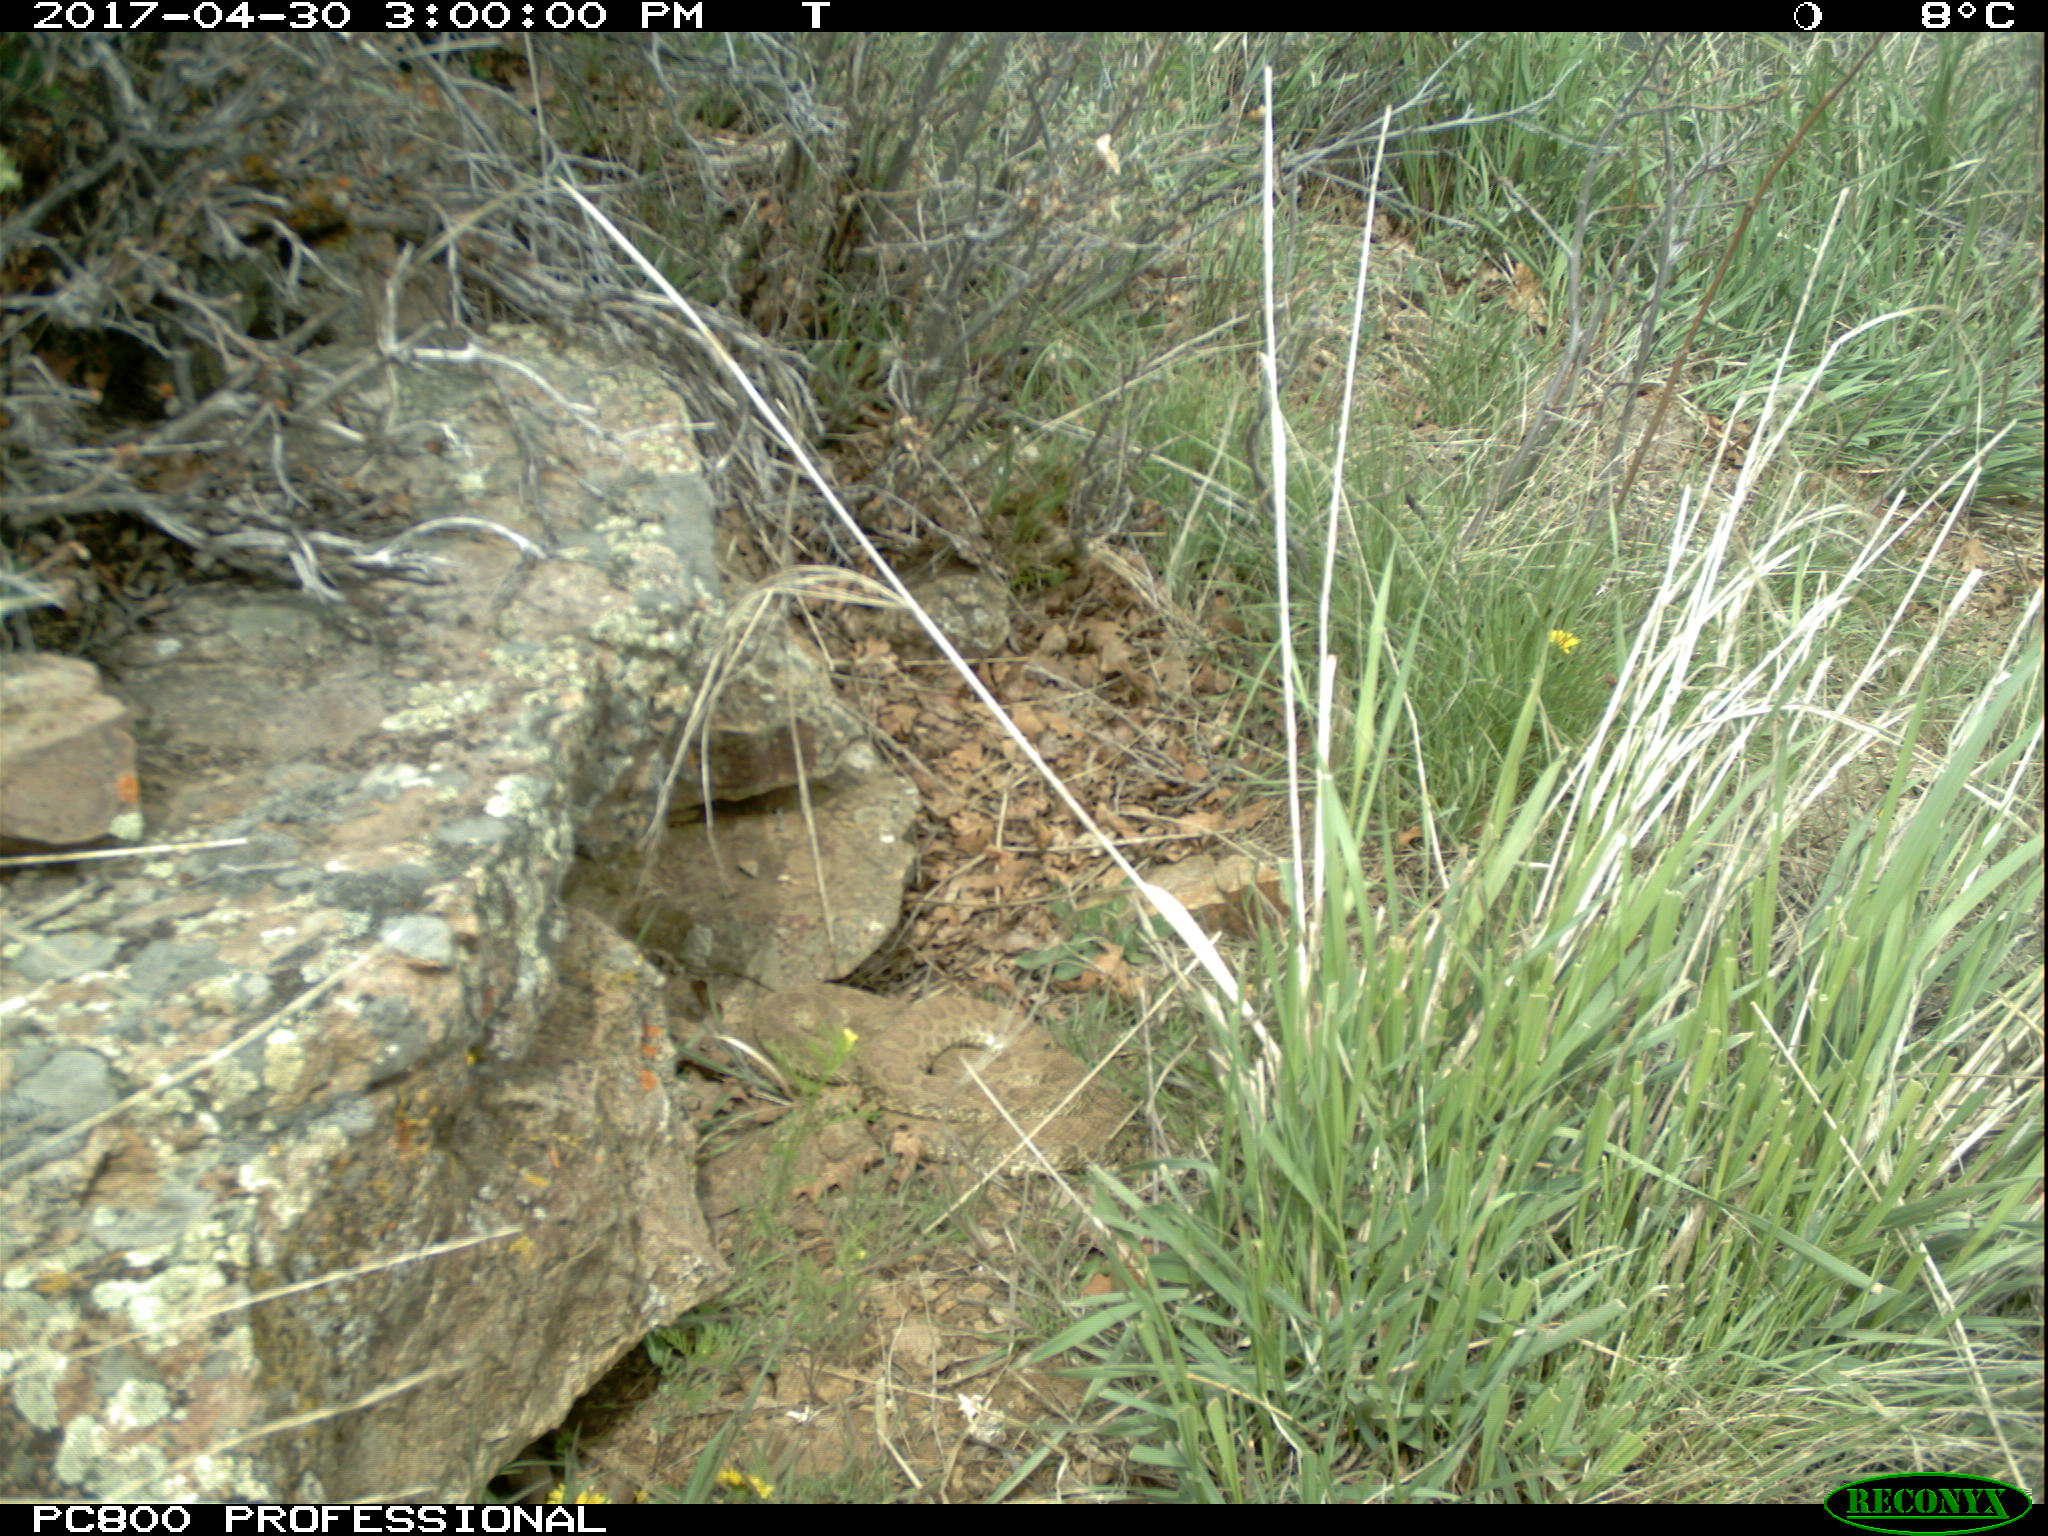snake: (742, 973, 1155, 1194)
